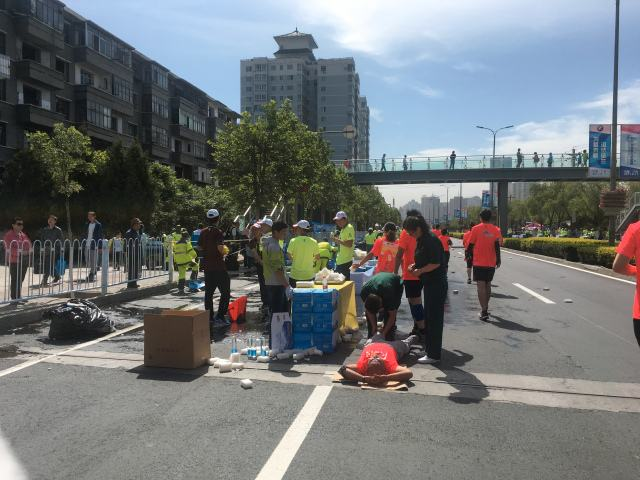10+: (3, 138, 640, 421)
down: (333, 327, 430, 392)
